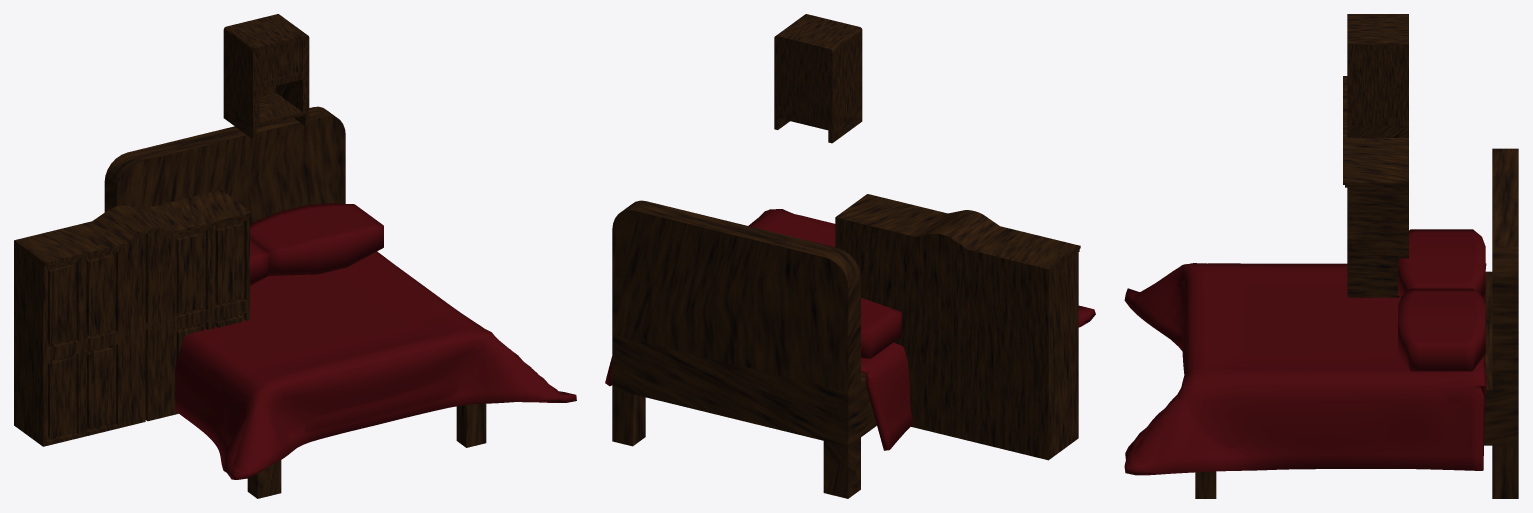
Rendered from Bed and Chest of Drawers.fbx.
3 views of the same model, side by side, from view 1: azimuth 30°, elevation 25°; view 2: azimuth 150°, elevation 25°; view 3: azimuth 270°, elevation 25° (orthographic). The views are drawn at different scales.
Visible parts, largest first — view 1: Blanket, Wardrobe, Bed, Chest of drawers, Pillow 1, Pillow 2; view 2: Bed, Wardrobe, Chest of drawers, Blanket, Pillow 2; view 3: Blanket, Bed, Wardrobe, Chest of drawers, Pillow 1, Pillow 2.
Part boxes in pixels (<box>): Blanket: <box>175,251,576,479</box>; Wardrobe: <box>14,190,251,446</box>; Bed: <box>104,106,486,498</box>; Chest of drawers: <box>223,14,309,139</box>; Pillow 1: <box>250,203,383,275</box>; Pillow 2: <box>250,240,268,285</box>; Bed: <box>612,200,876,498</box>; Wardrobe: <box>835,194,1080,460</box>; Chest of drawers: <box>774,14,862,143</box>; Blanket: <box>605,209,1095,450</box>; Pillow 2: <box>861,298,901,358</box>; Blanket: <box>1124,263,1486,475</box>; Bed: <box>1195,148,1518,498</box>; Wardrobe: <box>1343,76,1408,297</box>; Chest of drawers: <box>1347,14,1408,137</box>; Pillow 1: <box>1398,288,1485,371</box>; Pillow 2: <box>1398,229,1485,297</box>.
Size of the model in its own units: 1698 by 1443 by 1279.
6 materials, 6 textured.
